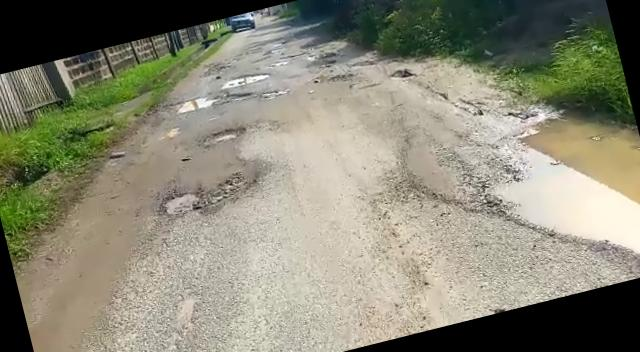pothole: (467, 91, 640, 305), (153, 172, 250, 224), (163, 91, 222, 118), (220, 68, 272, 90), (202, 125, 247, 146)
